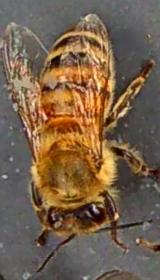varroa_mite: (31, 96, 58, 122)
